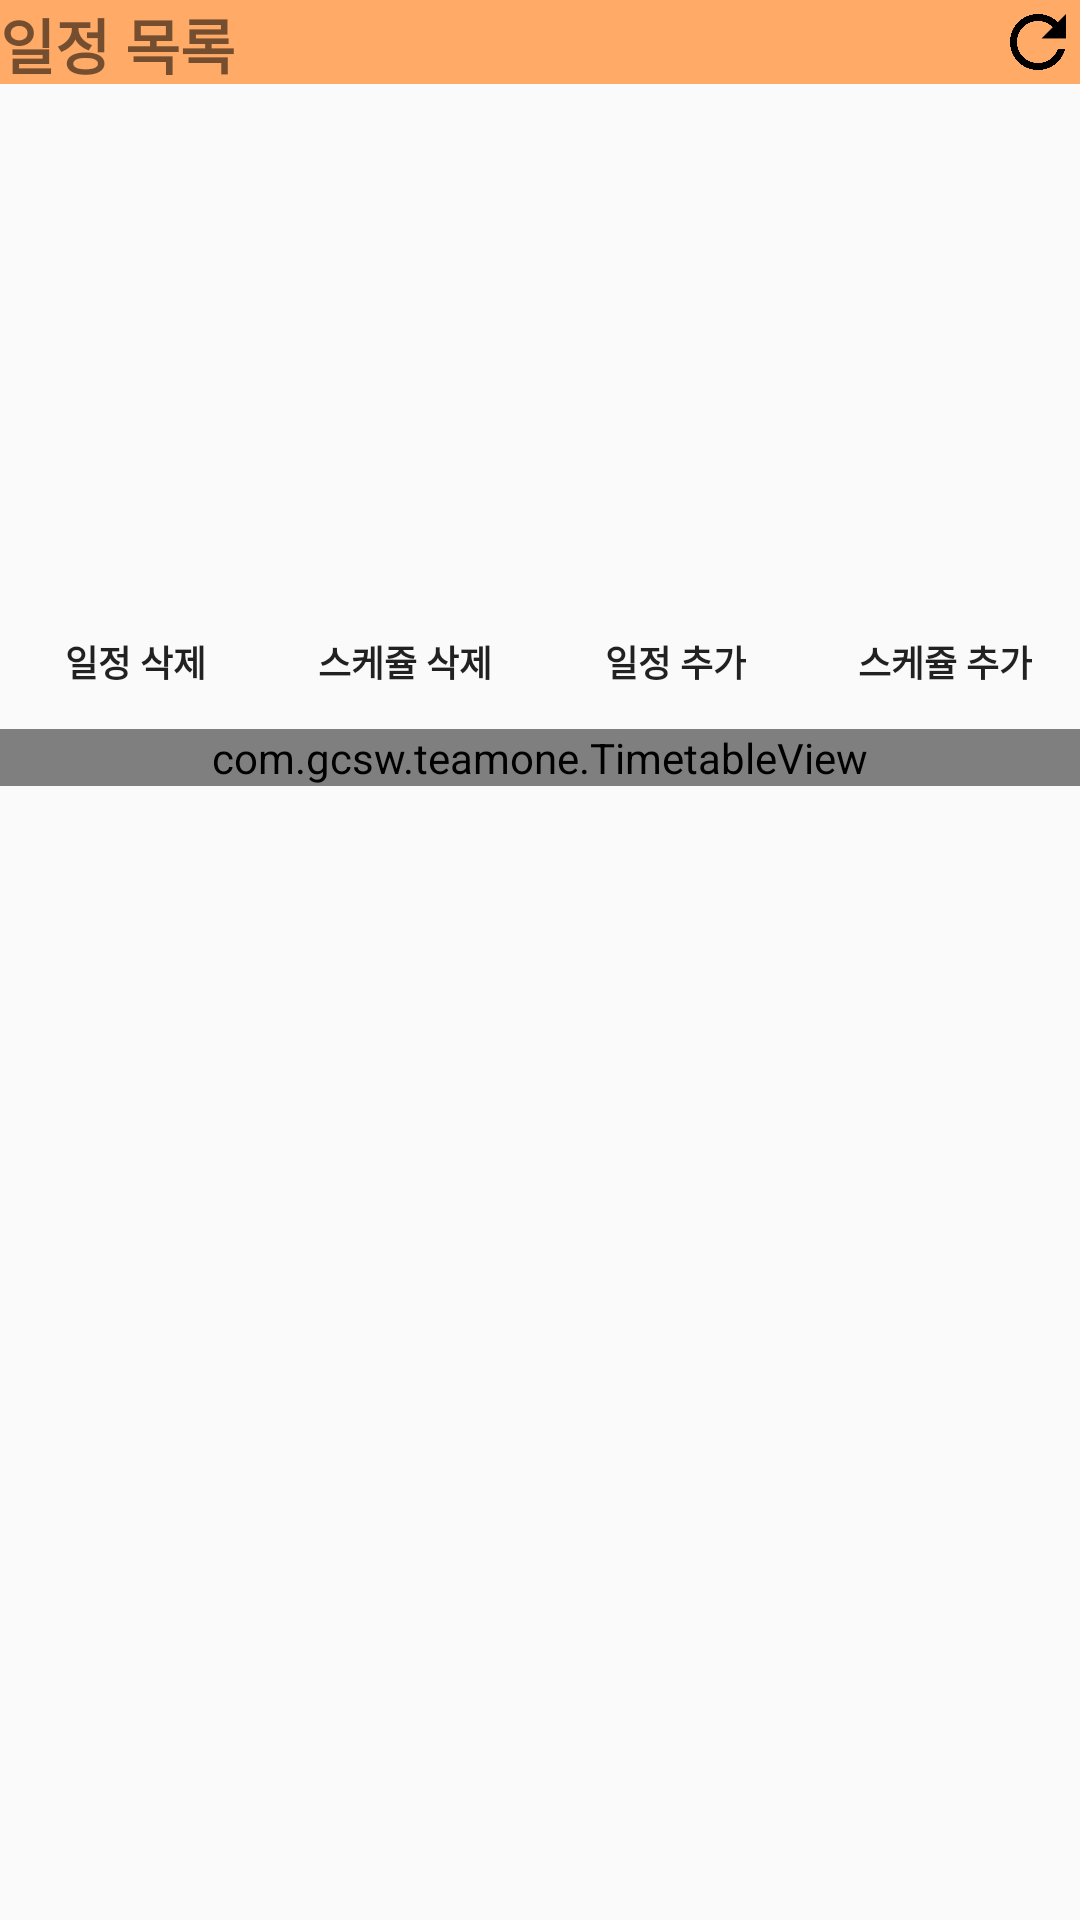

Where to tap for icons on this 1080w x 1920h app screen, as point (x, y):
refresh: point (1038, 42)
